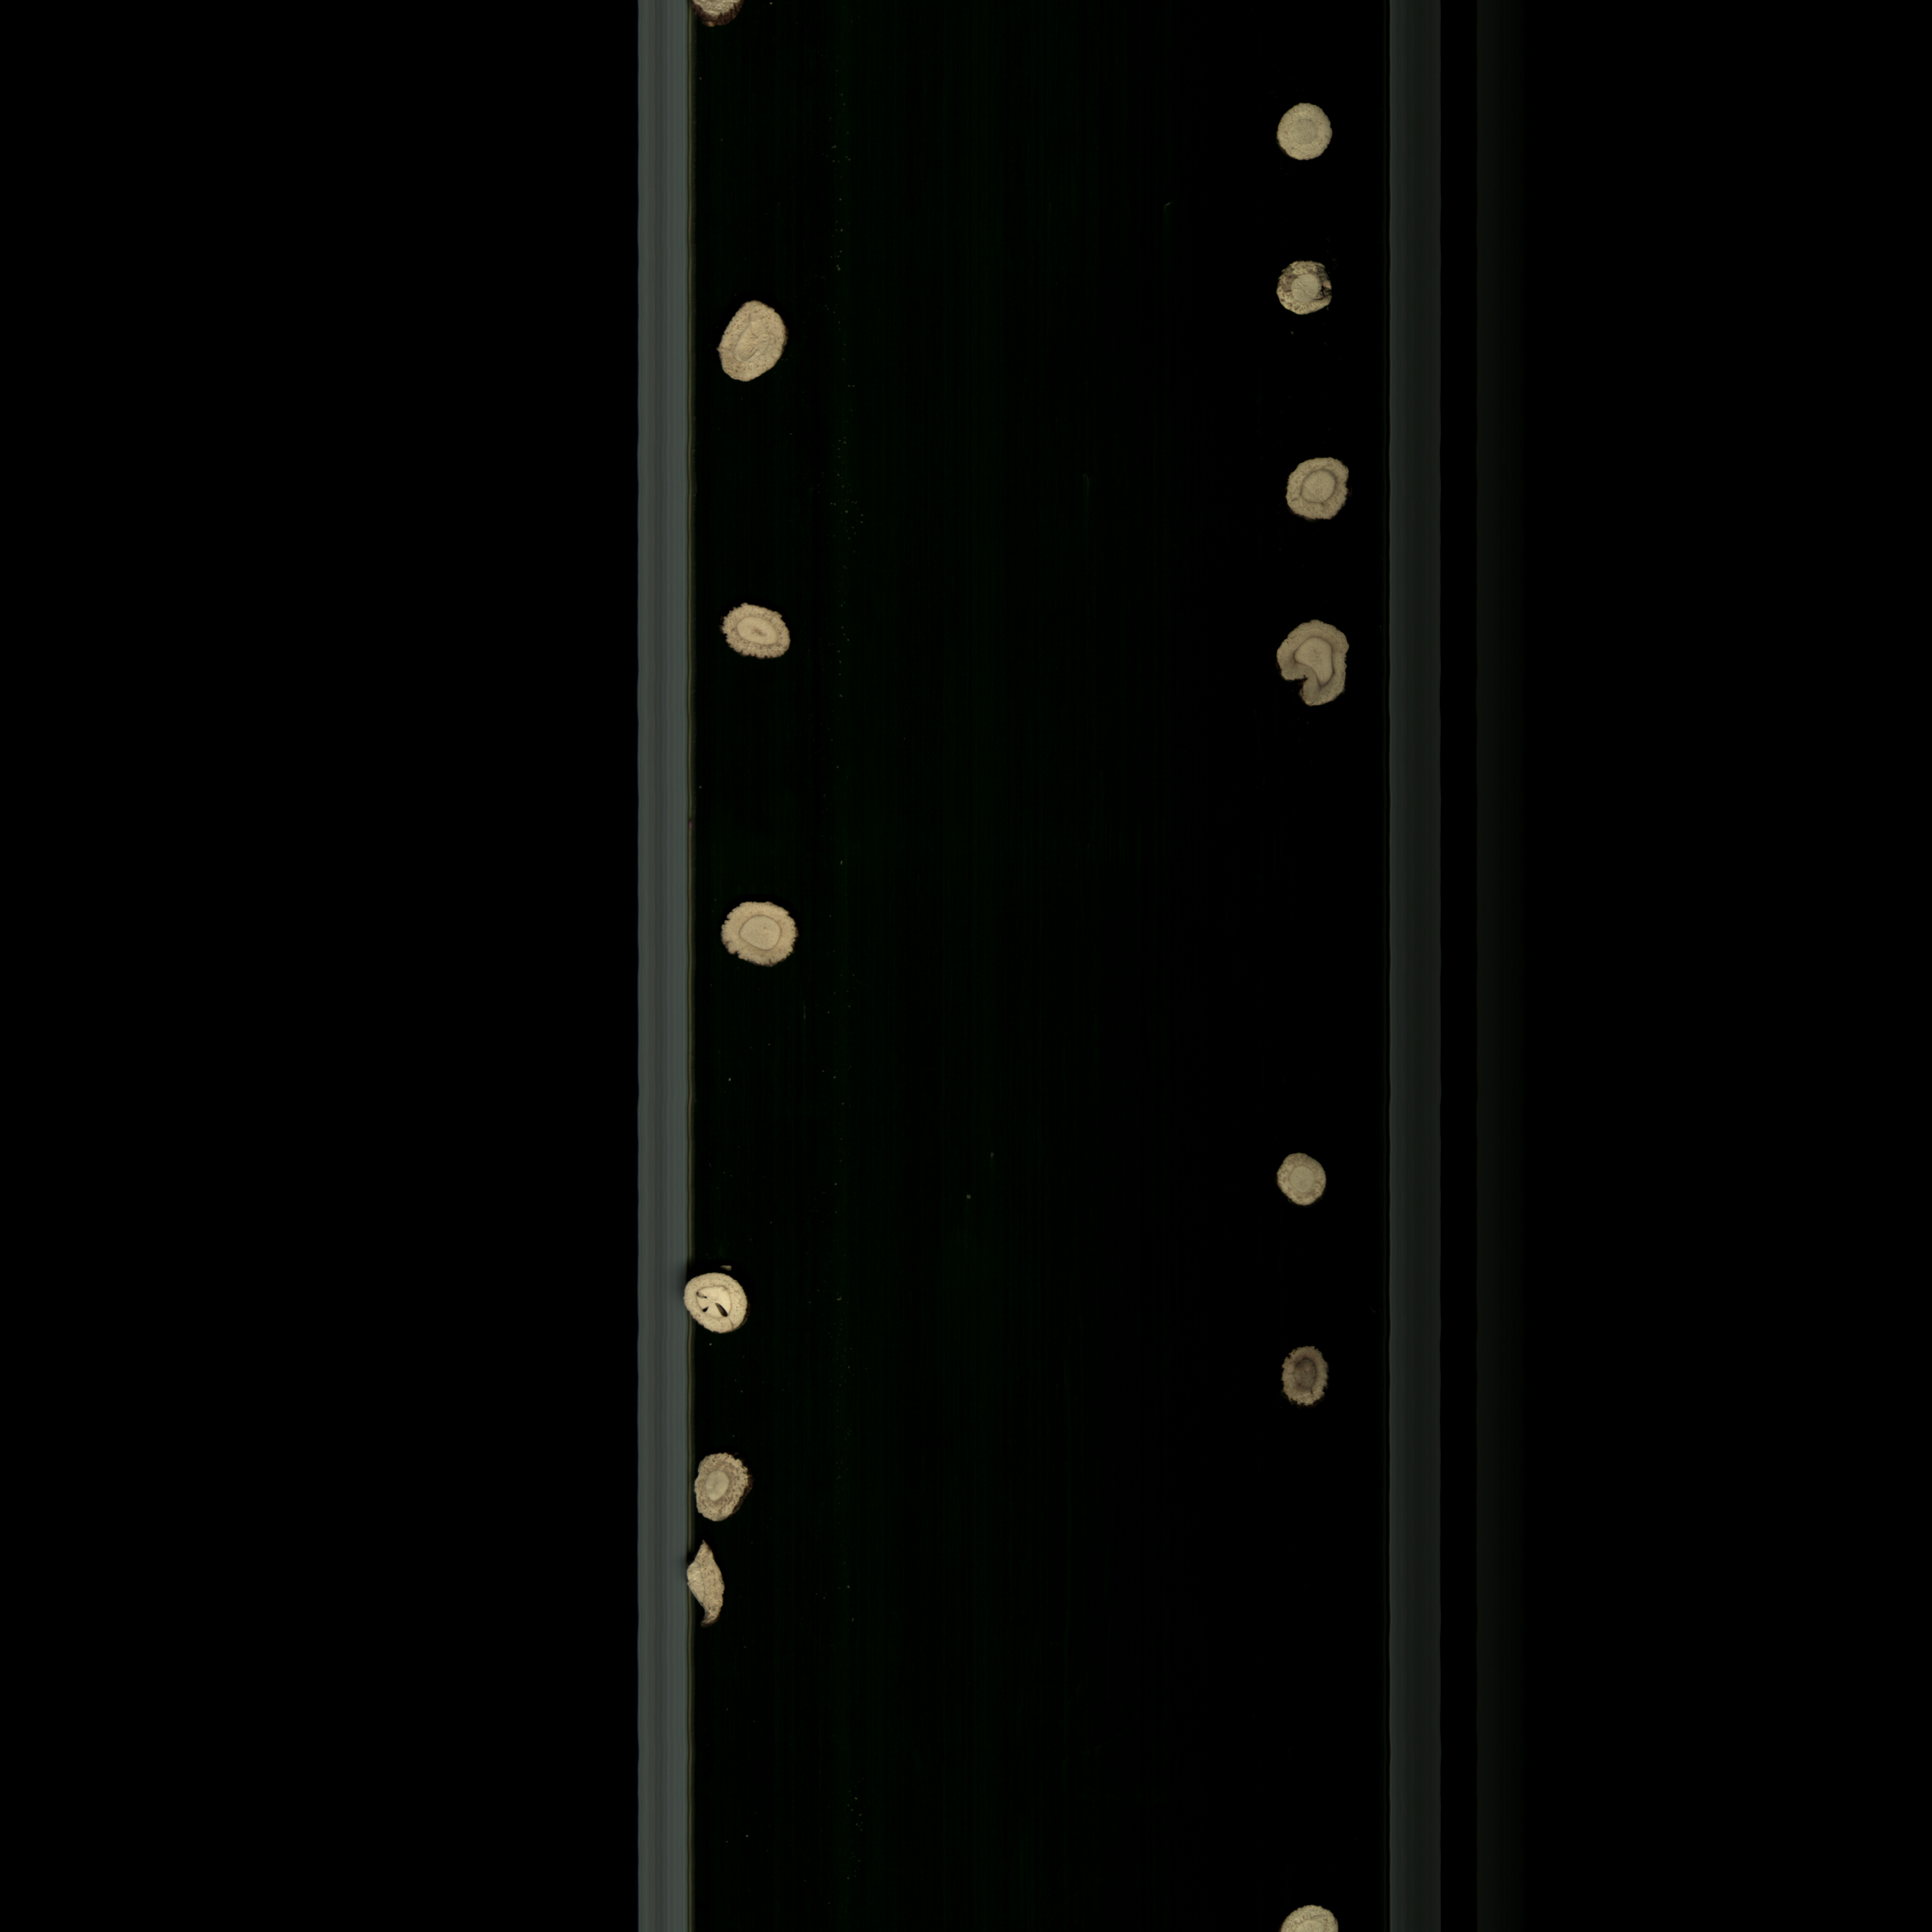debris: (683, 1537, 748, 1640)
hole: (672, 1270, 759, 1350)
moldy: (1269, 612, 1357, 727), (708, 890, 819, 978), (708, 292, 801, 396), (709, 598, 809, 671), (1258, 253, 1348, 327), (1279, 453, 1364, 522), (690, 1451, 763, 1530), (1276, 1341, 1334, 1419)
